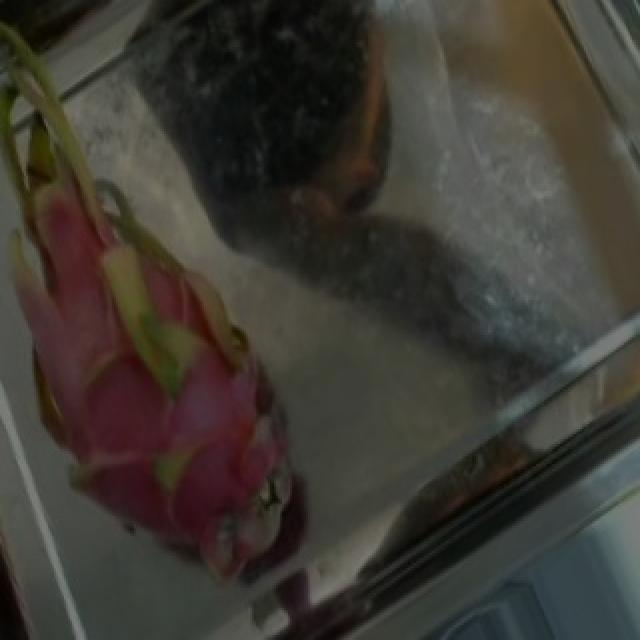fruit: (0, 213, 382, 635)
